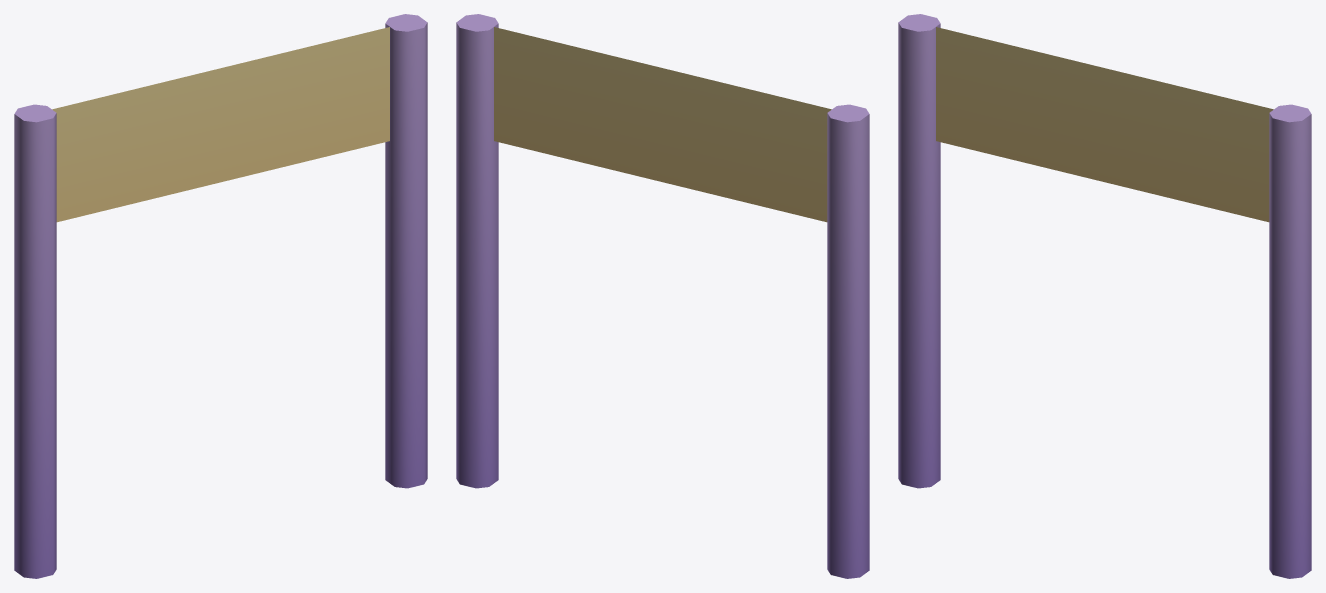
File: goal_gate.glb
The picture shows the model from 3 angles, left to right: view 1: azimuth 30°, elevation 25°; view 2: azimuth 150°, elevation 25°; view 3: azimuth 330°, elevation 25°; orthographic projection.
Parts seen in each view (by area): view 1: goal_gate; view 2: goal_gate; view 3: goal_gate.
Boxes of the visible parts, x1,y1,x2,y2 form: goal_gate: (14,14,427,578); goal_gate: (456,14,869,578); goal_gate: (898,14,1311,578).
Size of the model in its own units: 0.925 by 1 by 0.075.
